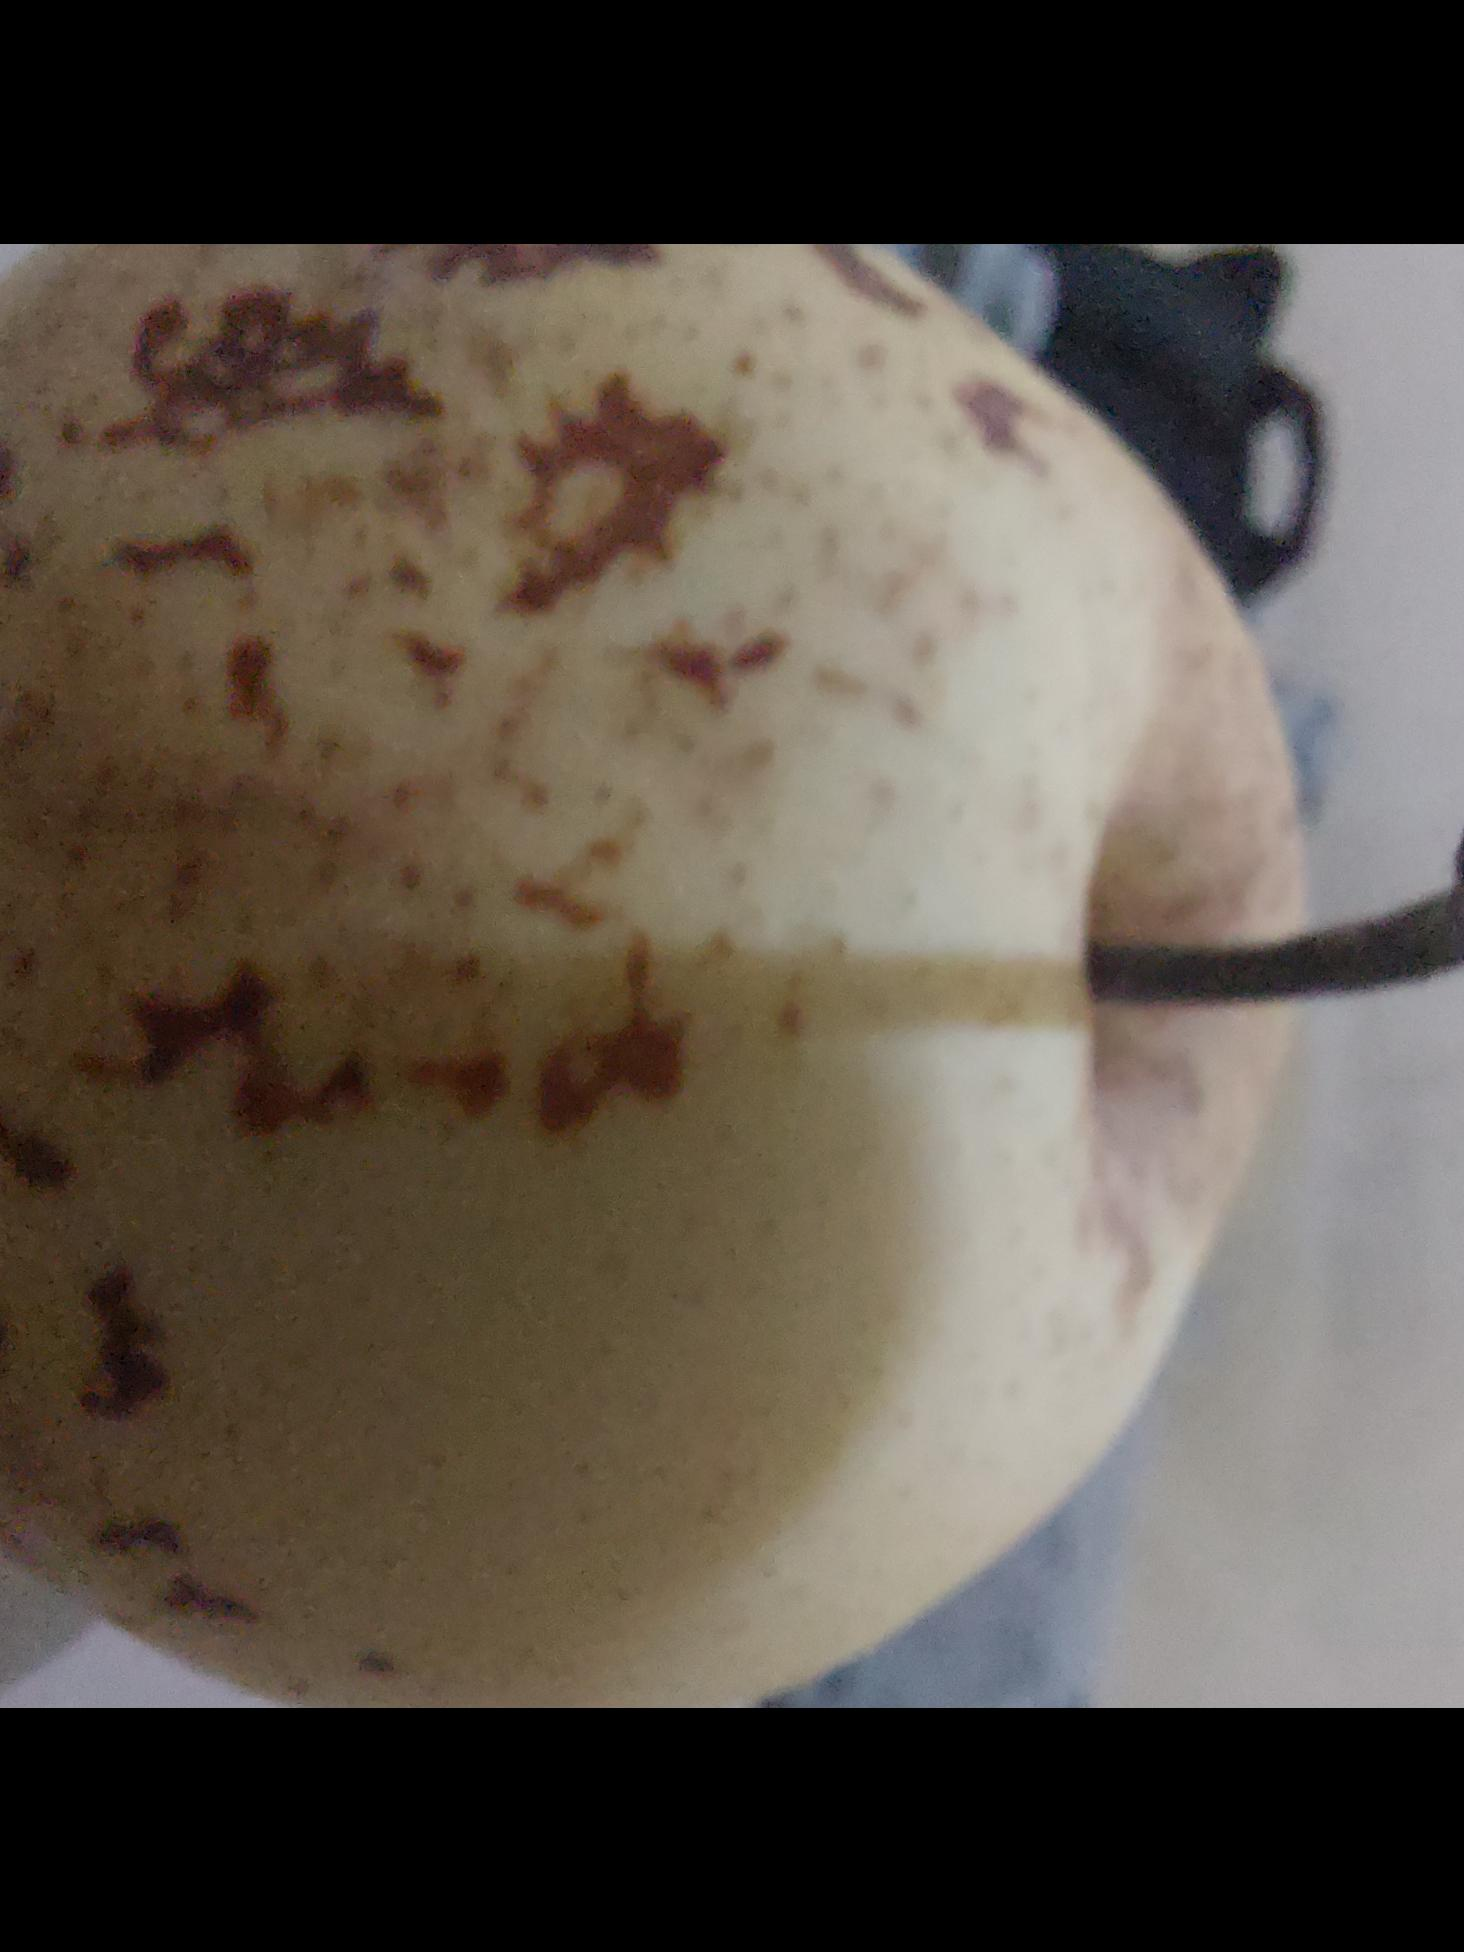Bad Pear: (0, 244, 1335, 1708)
